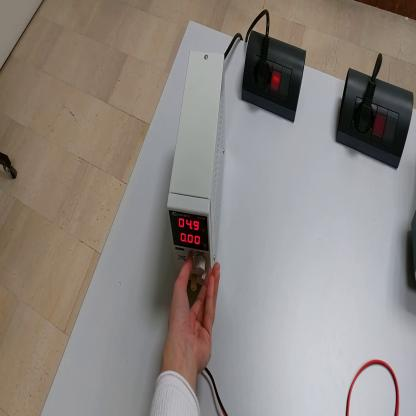hand: (167, 254, 220, 373)
power supply: (167, 50, 227, 293)
socket: (333, 62, 415, 170), (241, 32, 309, 125)
